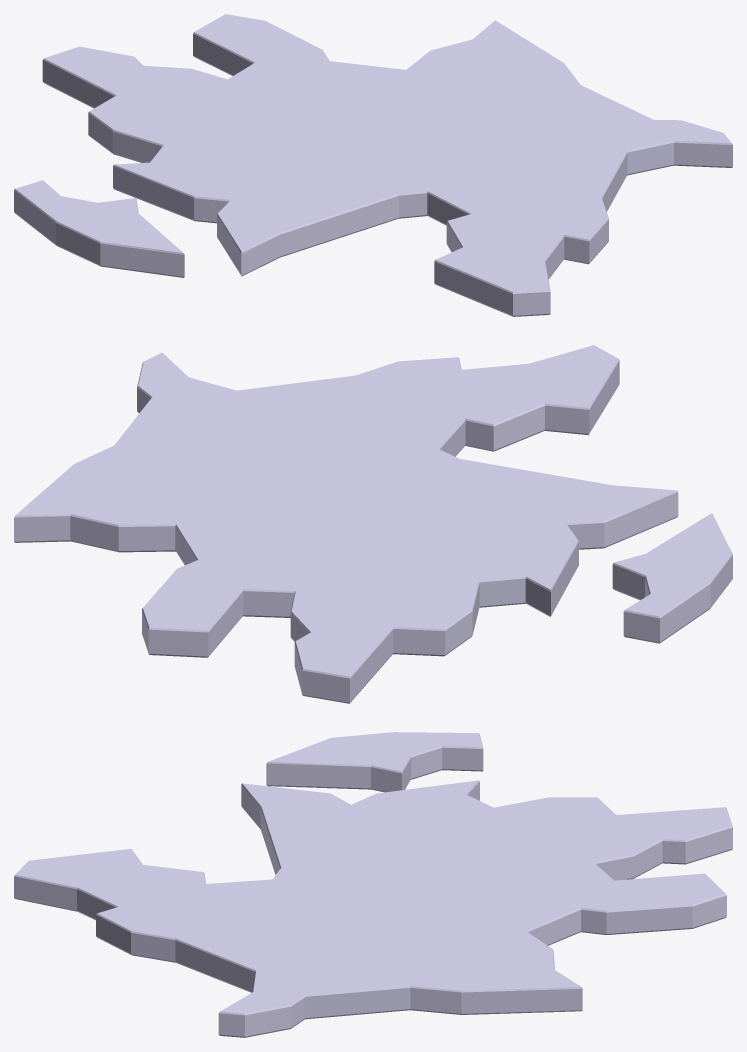
The model's file is AZE.glb.
3 views of the same model, one above another, from view 1: azimuth 30°, elevation 25°; view 2: azimuth 150°, elevation 25°; view 3: azimuth 270°, elevation 25° (orthographic). The views are drawn at different scales.
Bounding box in the file's own units: 1.7 × 0.068 × 1.83.
